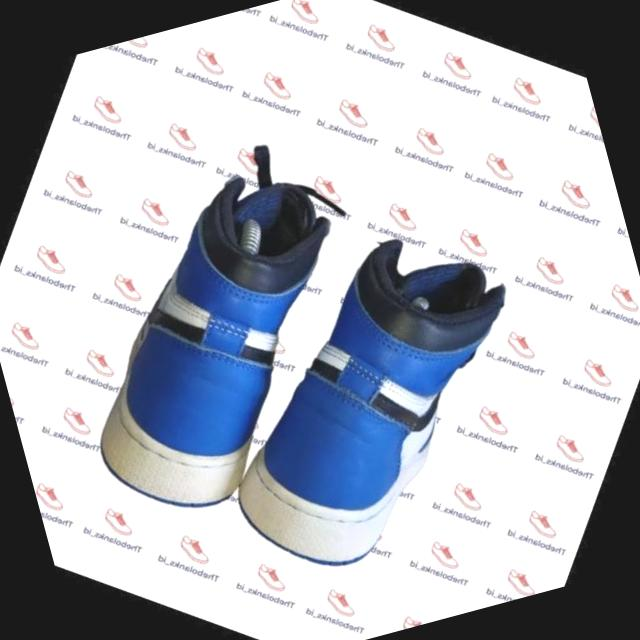nike_fake_jordan: (148, 174, 574, 628), (12, 122, 414, 558)
